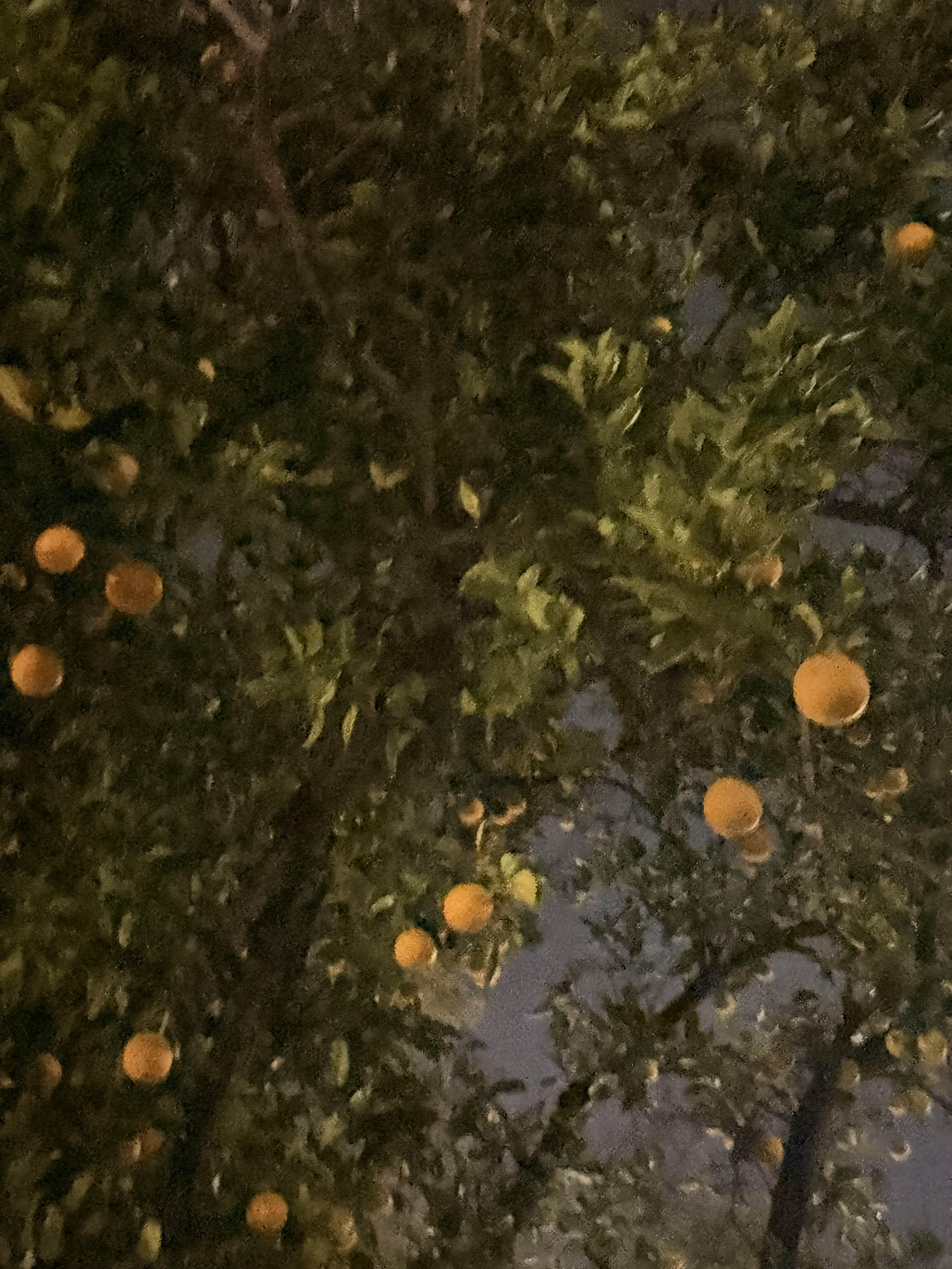orange: (793, 652, 870, 727), (703, 777, 762, 838), (105, 561, 163, 615), (10, 644, 64, 697), (122, 1032, 173, 1083), (90, 443, 139, 496), (34, 524, 85, 574), (443, 883, 493, 932), (0, 365, 36, 423), (246, 1191, 288, 1238), (734, 551, 784, 588), (394, 927, 436, 968), (50, 398, 92, 431), (899, 220, 934, 259), (917, 1030, 948, 1066), (741, 831, 773, 864), (35, 1052, 62, 1091), (138, 1130, 167, 1161), (459, 798, 485, 827), (837, 1060, 860, 1091), (119, 1136, 141, 1164), (762, 1134, 784, 1162), (883, 767, 908, 791), (846, 719, 870, 744), (902, 1090, 929, 1112), (489, 806, 515, 826), (887, 1028, 905, 1056), (863, 776, 883, 798), (716, 994, 737, 1014), (888, 1143, 911, 1160), (646, 1061, 658, 1083), (514, 798, 527, 815)
